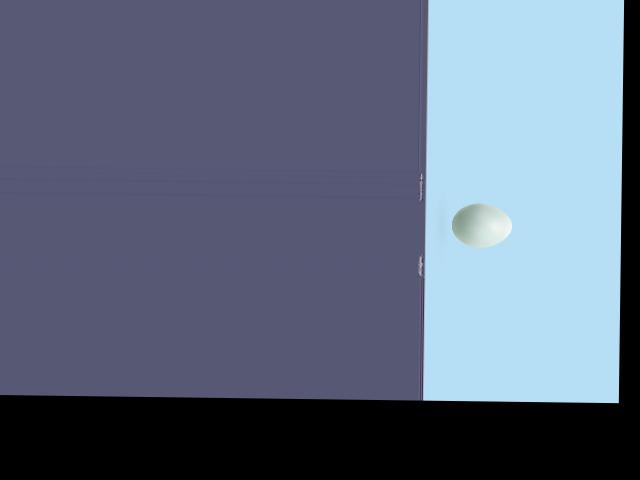egg: (452, 202, 512, 247)
